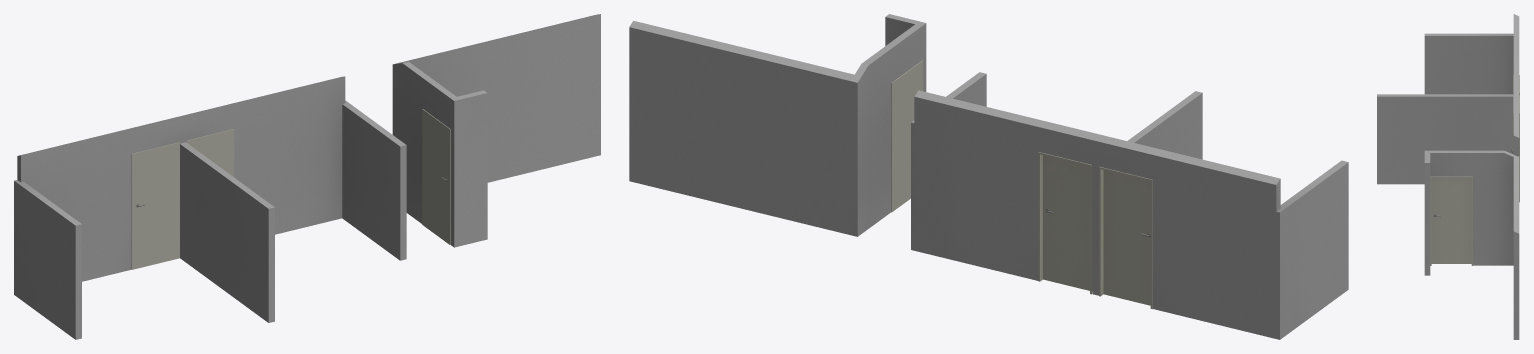
3 views of the same model, side by side, from view 1: azimuth 30°, elevation 25°; view 2: azimuth 150°, elevation 25°; view 3: azimuth 270°, elevation 25° (orthographic). The views are drawn at different scales.
Visible parts, largest first — view 1: OP3; view 2: OP3; view 3: OP3.
Part boxes in pixels (bbox=[...]): OP3: bbox=[14, 14, 600, 339]; OP3: bbox=[629, 14, 1348, 339]; OP3: bbox=[1377, 14, 1519, 339].
Bounding box in the file's own units: 9722 × 2335 × 2685.
3 materials, 3 textured.
